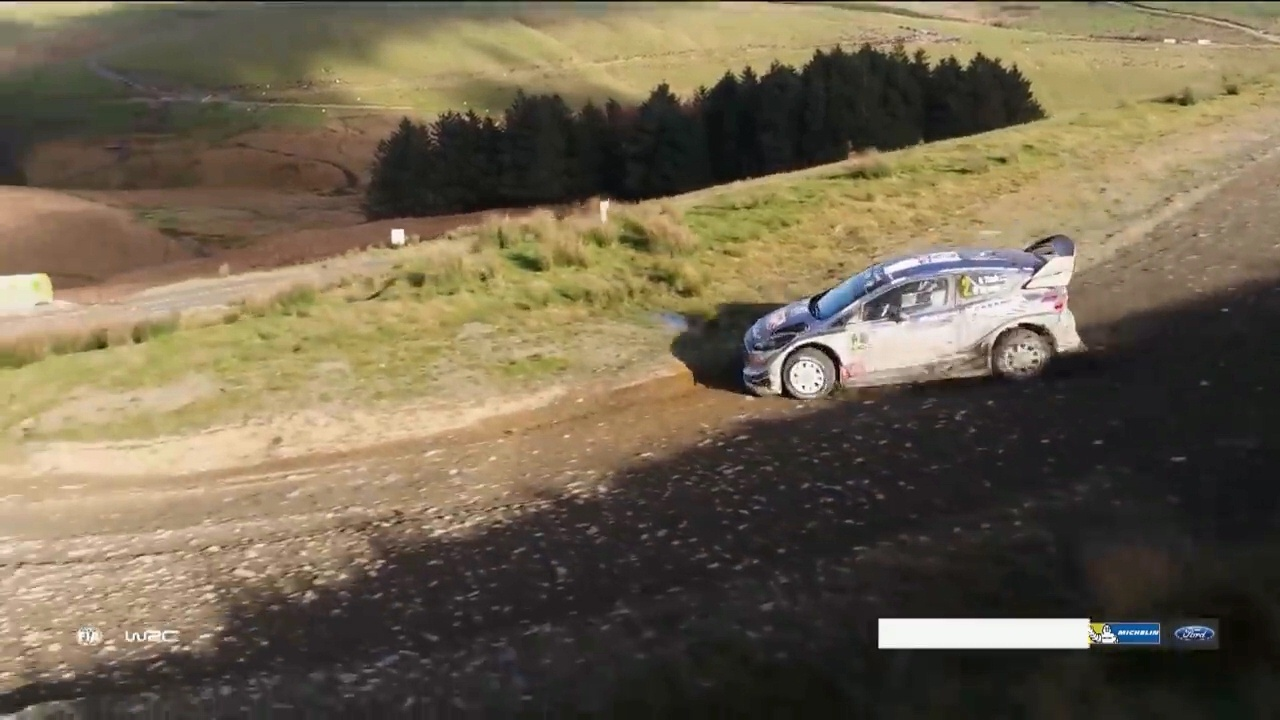araba: (735, 228, 1089, 402)
